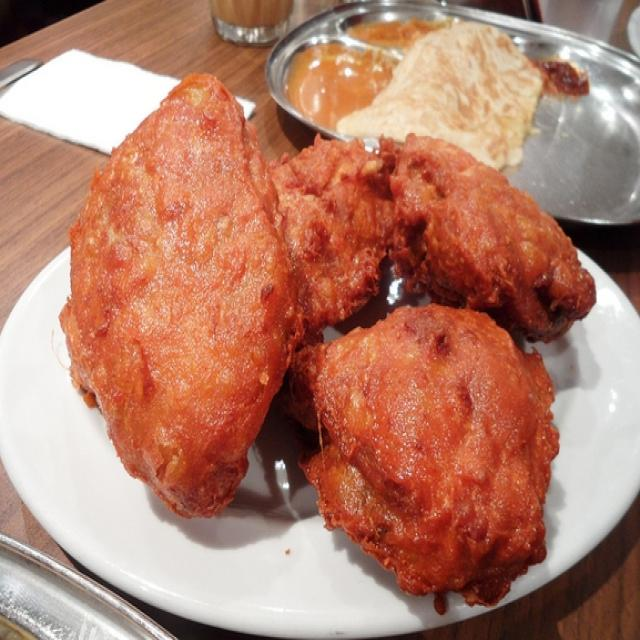鸡肉料理 含炸鸡: (43, 41, 609, 598)
